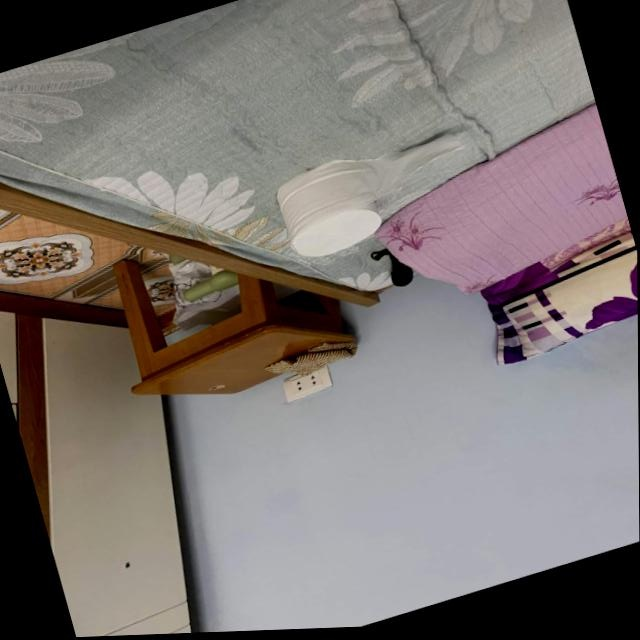outlet: (279, 364, 333, 404)
